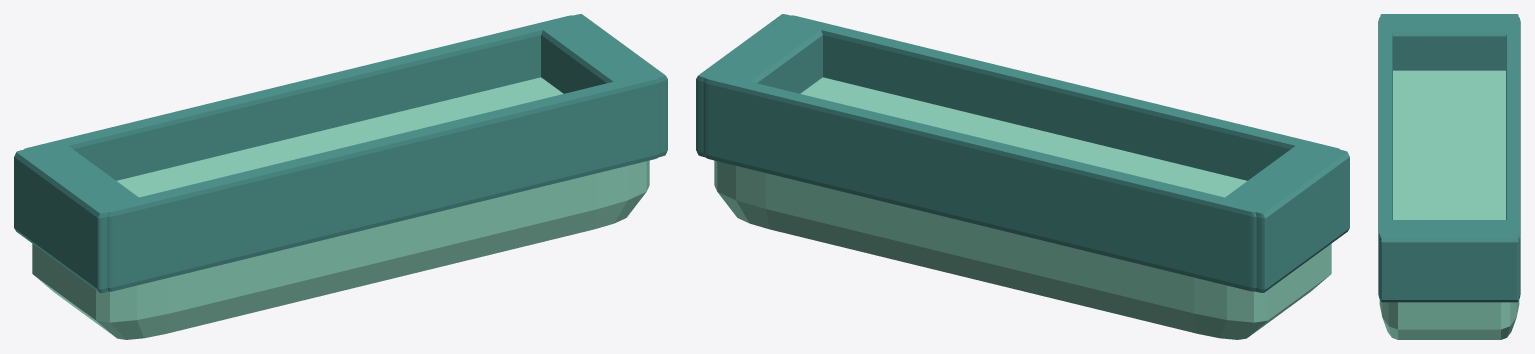
File: order_slot.glb
3 views of the same model, side by side, from view 1: azimuth 30°, elevation 25°; view 2: azimuth 150°, elevation 25°; view 3: azimuth 270°, elevation 25° (orthographic). The views are drawn at different scales.
Parts seen in each view (by area): view 1: model; view 2: model; view 3: model.
Part boxes in pixels (bbox=[...]): model: bbox=[14, 14, 667, 339]; model: bbox=[696, 14, 1349, 339]; model: bbox=[1378, 14, 1520, 339].
Bounding box in the file's own units: 1.5 × 0.35 × 0.4.
